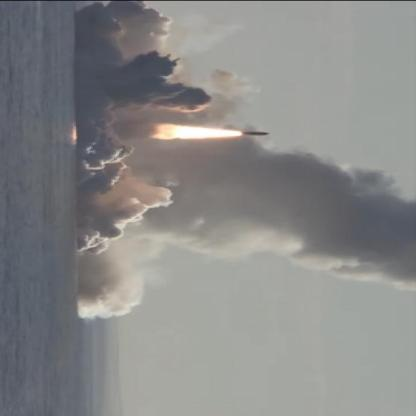MIL_TBM: (239, 127, 273, 137)
